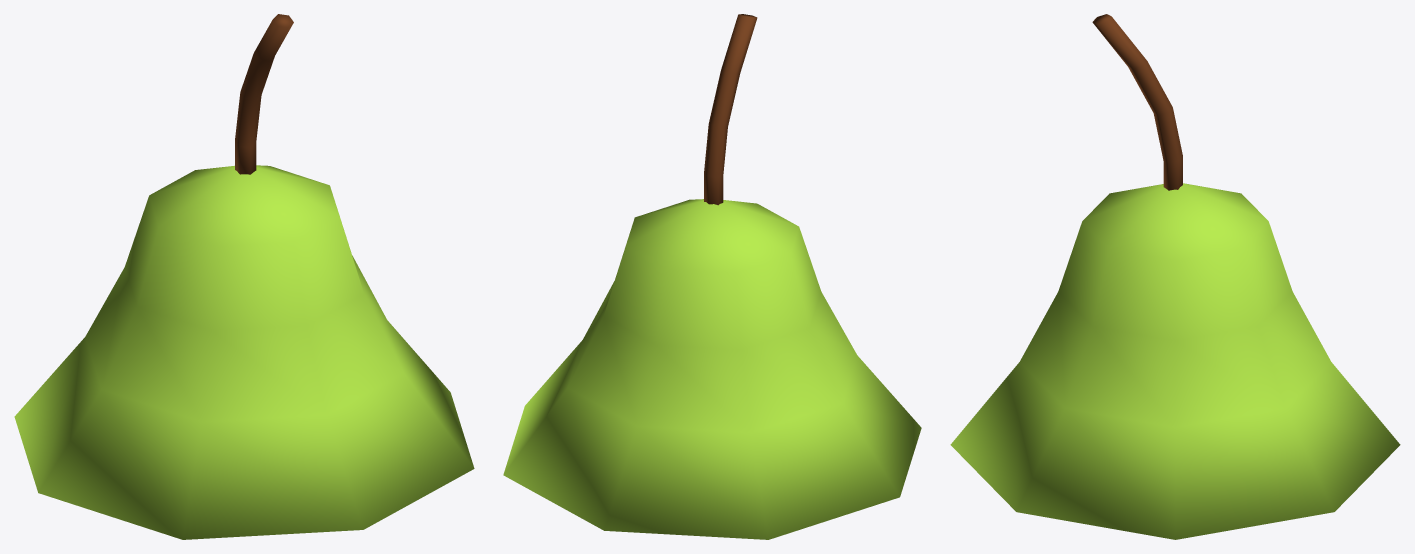
File: PeraTopo.fbx
3 renders of one model, left to right at view 1: azimuth 30°, elevation 25°; view 2: azimuth 150°, elevation 25°; view 3: azimuth 270°, elevation 25°, orthographic. The views are drawn at different scales.
Parts seen in each view (by area): view 1: PearTop; view 2: PearTop; view 3: PearTop.
Part boxes in pixels (box(x1,y1,x2,y2)): PearTop: box(14, 14, 474, 539); PearTop: box(503, 14, 921, 539); PearTop: box(950, 14, 1400, 539).
Bounding box in the file's own units: 185 × 194 × 185.
